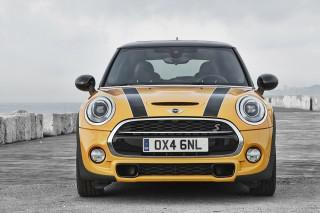mini: (164, 105, 189, 116)
